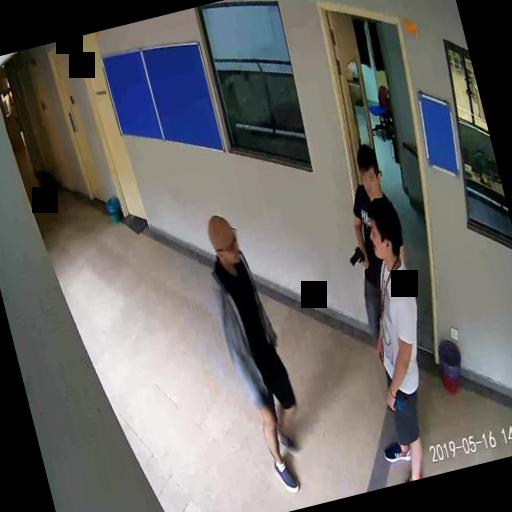Handgun: (346, 244, 366, 270)
